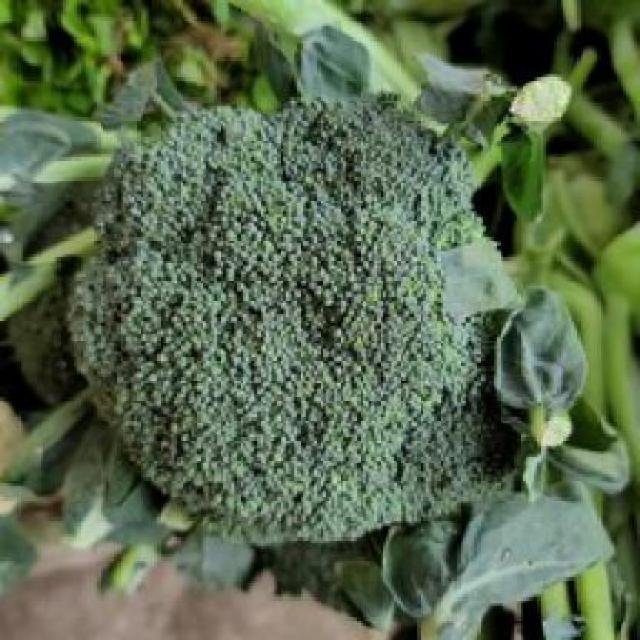broccoli: (68, 111, 554, 554)
